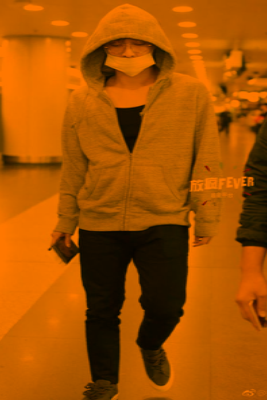mask_weared_incorrect: (103, 40, 157, 77)
